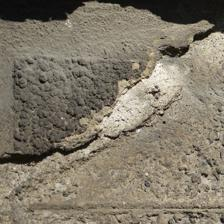Crack: (99, 26, 217, 137), (4, 130, 101, 168)
